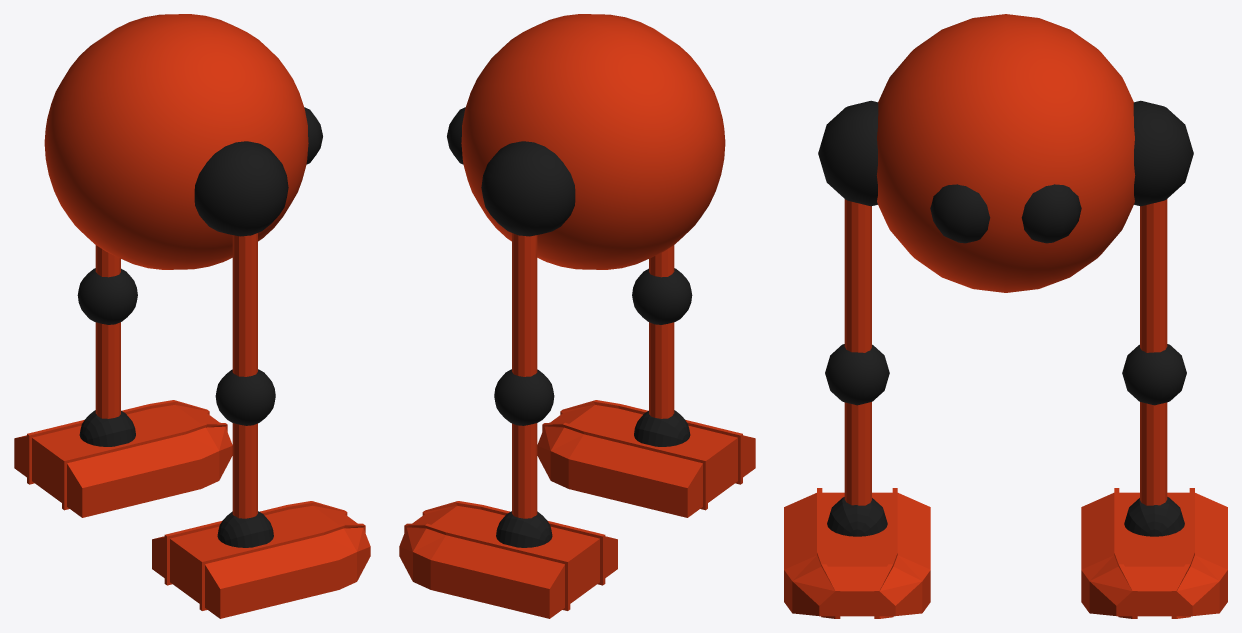
Rendered from process.glb.
3 renders of one model, left to right at view 1: azimuth 30°, elevation 25°; view 2: azimuth 150°, elevation 25°; view 3: azimuth 270°, elevation 25°, orthographic. The views are drawn at different scales.
Parts seen in each view (by area): view 1: Sphere_001, Cube_010, Sphere_002, Sphere_004, Cylinder_008, Cylinder_006, Sphere_005, Sphere_006; view 2: Sphere_001, Cube_010, Sphere_002, Sphere_004, Cylinder_008, Cylinder_006, Sphere_005, Sphere_006; view 3: Sphere_001, Cube_010, Sphere_002, Cylinder_006, Sphere_004, Cylinder_008, Sphere_006, Sphere_005.
Boxes of the visible parts, x1=… form: Sphere_001: x1=44, y1=14, x2=308, y2=269; Cube_010: x1=14, y1=400, x2=370, y2=618; Sphere_002: x1=194, y1=141, x2=288, y2=236; Sphere_004: x1=77, y1=268, x2=275, y2=425; Cylinder_008: x1=95, y1=322, x2=257, y2=518; Cylinder_006: x1=95, y1=233, x2=257, y2=376; Sphere_005: x1=79, y1=410, x2=273, y2=547; Sphere_006: x1=304, y1=107, x2=322, y2=164; Sphere_001: x1=461, y1=14, x2=725, y2=269; Cube_010: x1=399, y1=400, x2=755, y2=618; Sphere_002: x1=481, y1=141, x2=575, y2=236; Sphere_004: x1=494, y1=268, x2=692, y2=425; Cylinder_008: x1=512, y1=322, x2=674, y2=518; Cylinder_006: x1=512, y1=233, x2=674, y2=376; Sphere_005: x1=496, y1=410, x2=690, y2=547; Sphere_006: x1=447, y1=107, x2=465, y2=164; Sphere_001: x1=876, y1=14, x2=1135, y2=292; Cube_010: x1=784, y1=488, x2=1227, y2=618; Sphere_002: x1=818, y1=100, x2=1193, y2=206; Cylinder_006: x1=844, y1=199, x2=1167, y2=352; Sphere_004: x1=825, y1=344, x2=1186, y2=405; Cylinder_008: x1=844, y1=402, x2=1167, y2=505; Sphere_006: x1=930, y1=184, x2=1081, y2=243; Sphere_005: x1=827, y1=497, x2=1184, y2=536.
Size of the model in its own units: 5.33 by 10.79 by 7.95.
